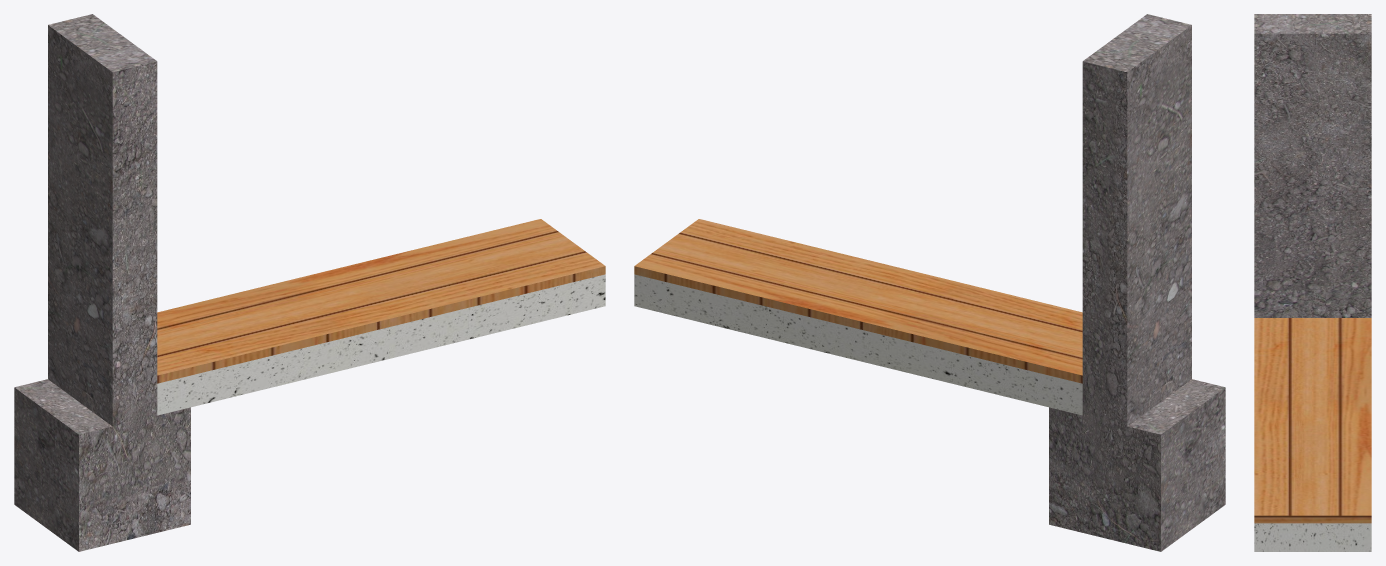
File: NOMBRES.fbx
3 views of the same model, side by side, from view 1: azimuth 30°, elevation 25°; view 2: azimuth 150°, elevation 25°; view 3: azimuth 270°, elevation 25° (orthographic). The views are drawn at different scales.
Parts seen in each view (by area): view 1: 003, 001, 002; view 2: 003, 001, 002; view 3: 003, 001, 002.
Part boxes in pixels (x1,y1,x2,y2): 003: (14, 14, 190, 551); 001: (157, 219, 605, 383); 002: (157, 274, 605, 415); 003: (1049, 14, 1225, 551); 001: (634, 219, 1082, 383); 002: (634, 274, 1082, 415); 003: (1254, 14, 1371, 317); 001: (1254, 318, 1371, 523); 002: (1254, 523, 1371, 551).
Bounding box in the file's own units: 23.5 × 5 × 20.1.
3 materials, 3 textured.
